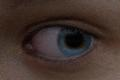eye: (58, 27, 90, 55)
